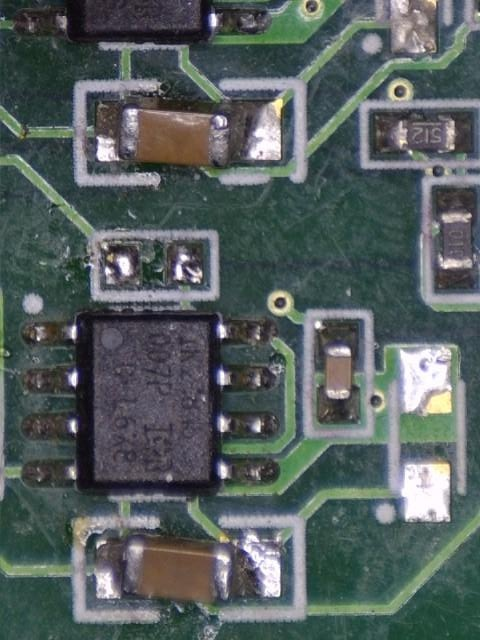pcb_defect: (93, 98, 283, 170), (95, 532, 283, 604)
